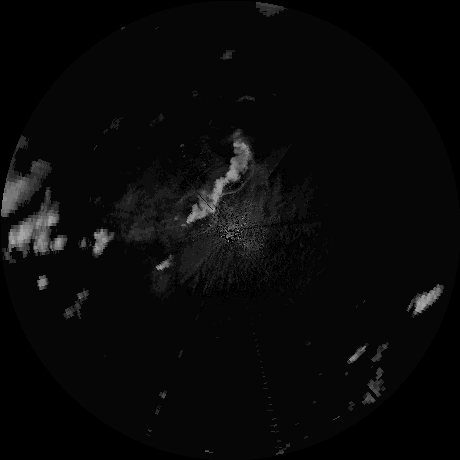frontgust: (220, 167, 255, 197), (199, 206, 217, 235)
